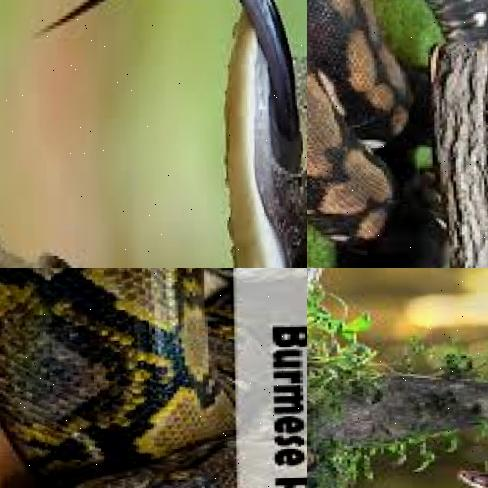snake: (0, 0, 307, 268), (0, 268, 307, 488), (307, 0, 488, 268), (307, 268, 488, 488)
